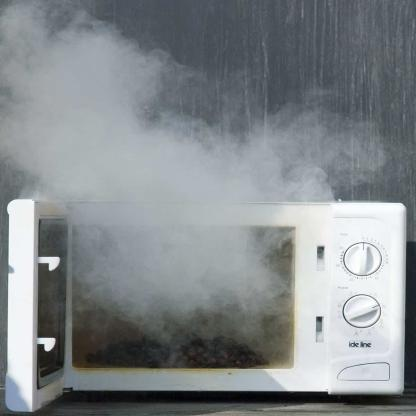smoke: (0, 0, 392, 380)
